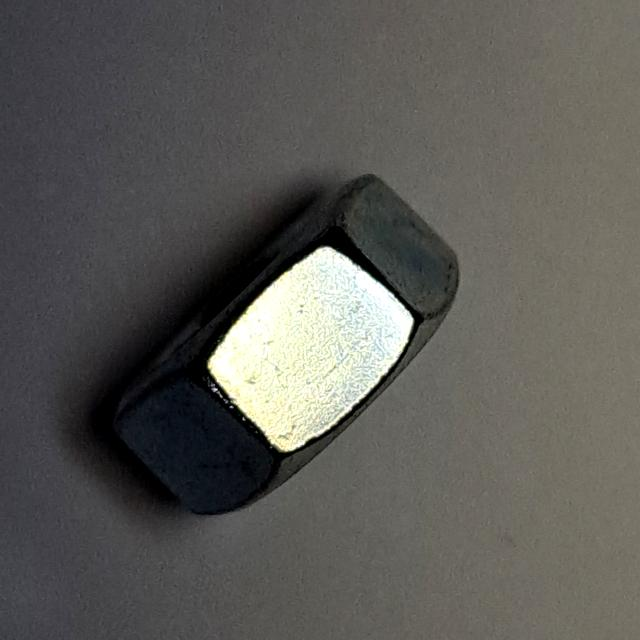Side_Excellent: (89, 156, 474, 534)
